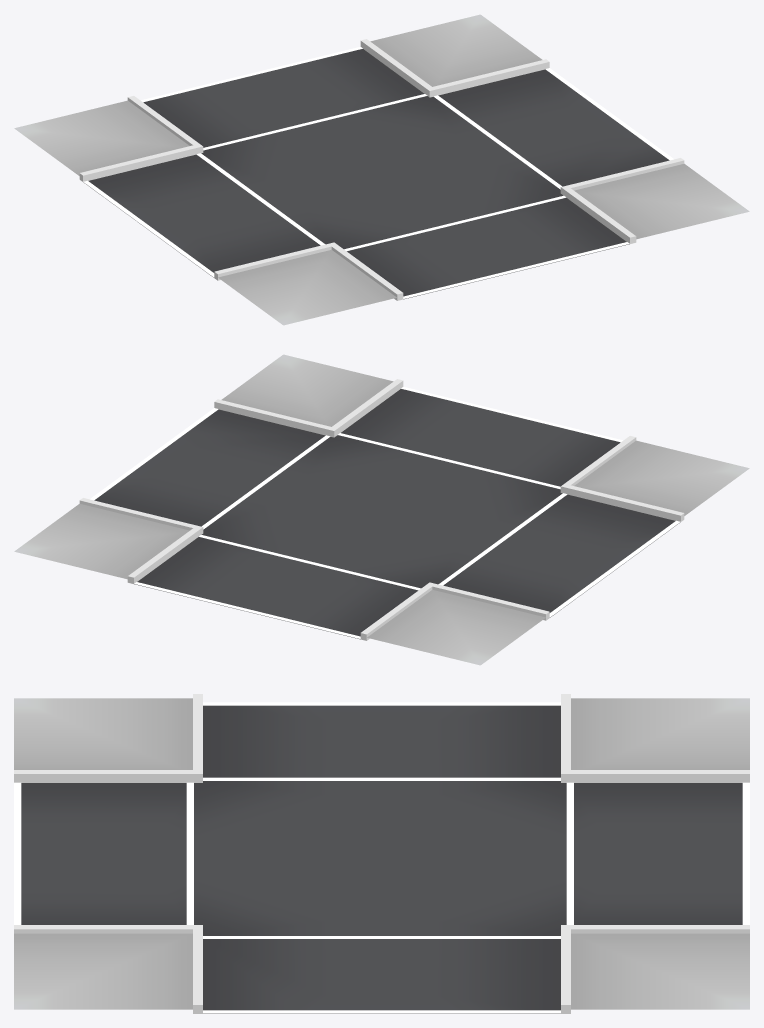
The model's file is city2-road-012.glb.
3 views of the same model, one above another, from view 1: azimuth 30°, elevation 25°; view 2: azimuth 150°, elevation 25°; view 3: azimuth 270°, elevation 25° (orthographic). The views are drawn at different scales.
Parts seen in each view (by area): view 1: road_012; view 2: road_012; view 3: road_012.
Part boxes in pixels (x1,y1,x2,y2): road_012: (14, 14, 749, 325); road_012: (14, 354, 749, 665); road_012: (14, 694, 749, 1013).
Size of the model in its own units: 15 by 0.2 by 15.
Materials: 1 (1 with a texture image).
